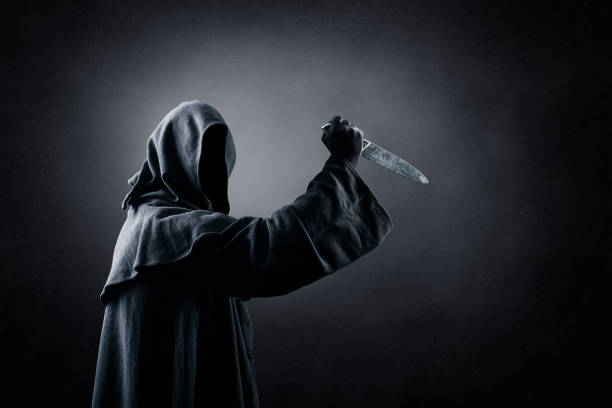knife: (322, 123, 430, 186)
